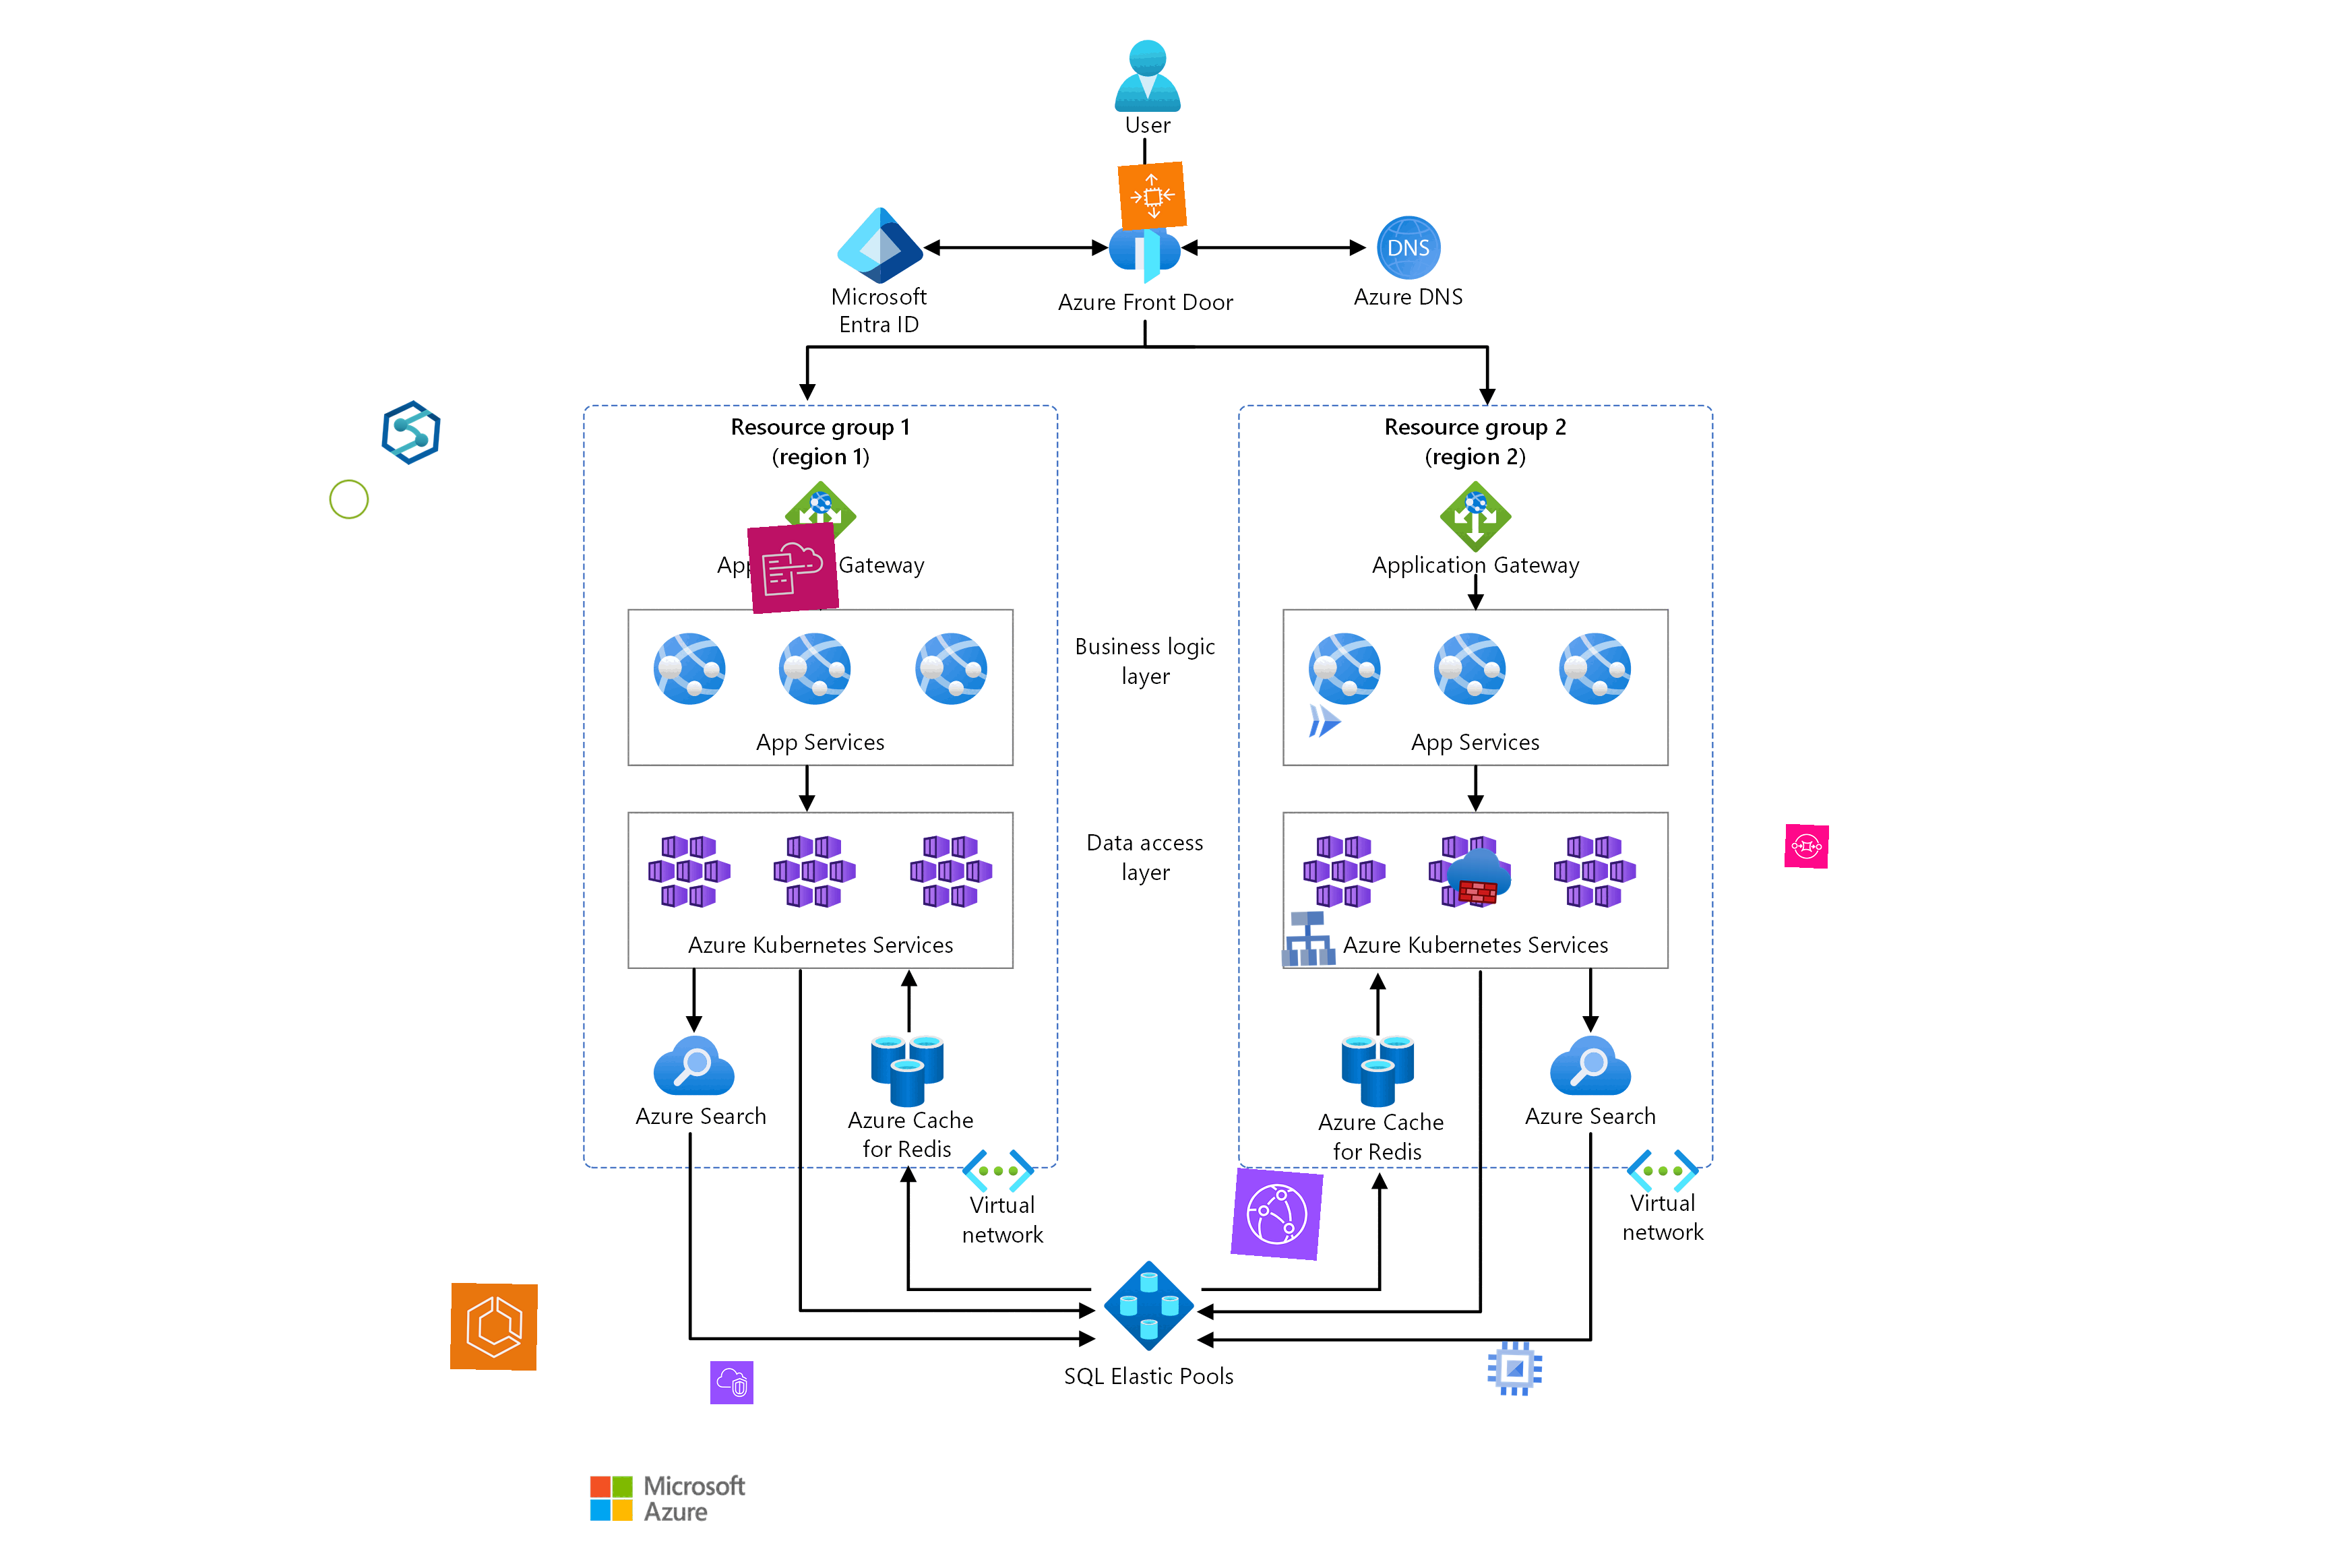aws_amazon_cloudfront: (1230, 1167, 1323, 1260)
aws_amazon_ec2_auto_scaling: (1116, 161, 1188, 231)
aws_amazon_elastic_container_service: (450, 1283, 539, 1372)
aws_amazon_simple_queue_service: (1783, 824, 1830, 870)
aws_amazon_virtual_private_cloud: (711, 1360, 754, 1405)
aws_cloudformation: (747, 521, 840, 614)
aws_simple_storage_service_object: (325, 476, 373, 521)
azure_firewalls: (1444, 840, 1514, 910)
azure_synapse_analytics: (376, 397, 446, 467)
gcp_cloud_load_balancing: (1274, 905, 1342, 973)
gcp_cloud_run: (1302, 698, 1347, 744)
gcp_compute_engine: (1480, 1335, 1549, 1402)
